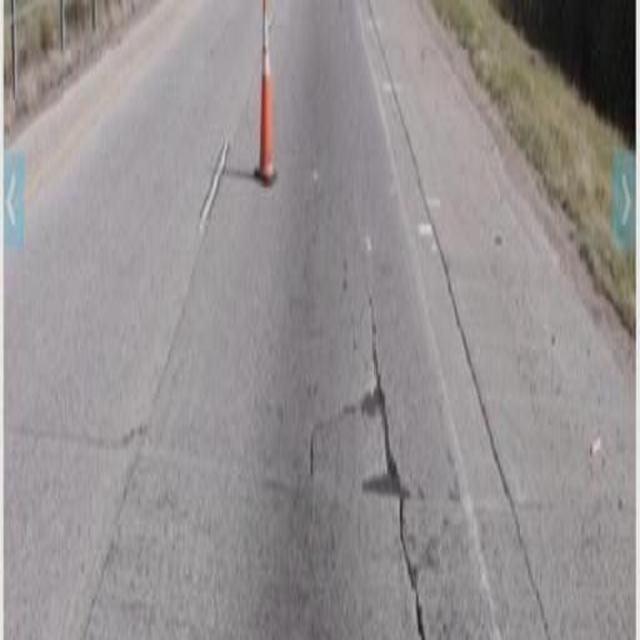severe crack: (42, 145, 253, 635), (384, 204, 560, 640), (345, 0, 485, 271), (497, 496, 552, 510)
